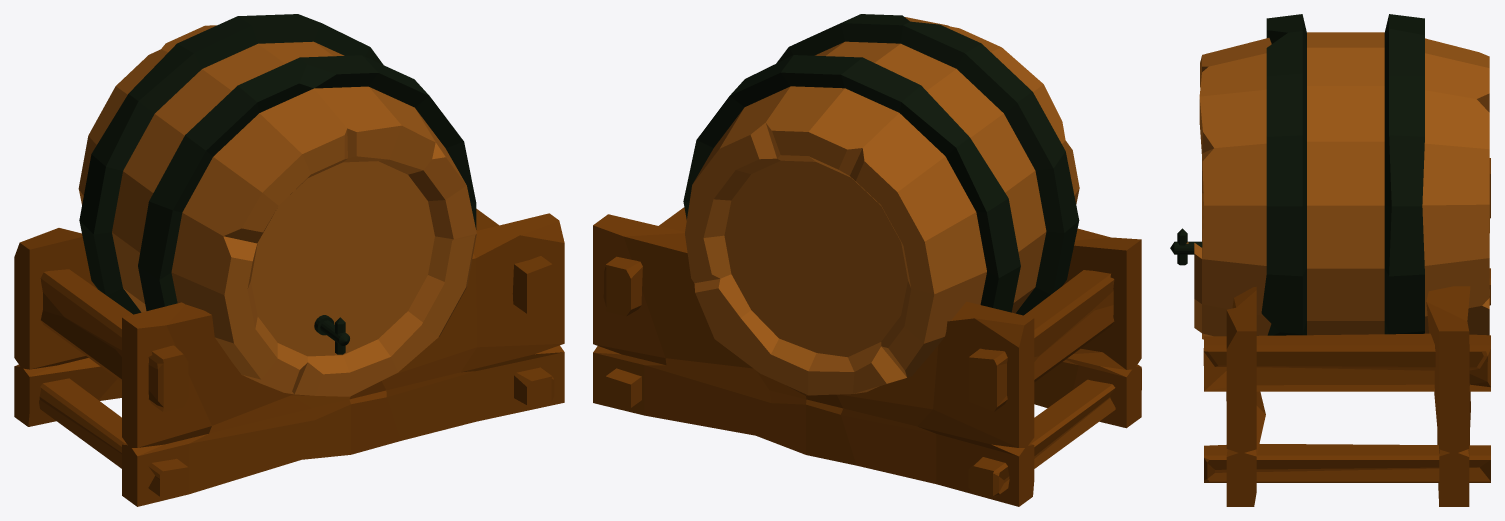
The model's file is Barrel2.fbx.
The picture shows the model from 3 angles, left to right: view 1: azimuth 30°, elevation 25°; view 2: azimuth 150°, elevation 25°; view 3: azimuth 270°, elevation 25°; orthographic projection.
Parts seen in each view (by area): view 1: Barrel2; view 2: Barrel2; view 3: Barrel2.
Boxes of the visible parts, x1,y1,x2,y2 form: Barrel2: (14,14,564,506); Barrel2: (593,14,1141,506); Barrel2: (1170,14,1490,506).
Size of the model in its own units: 94.74 by 79.03 by 62.48.
